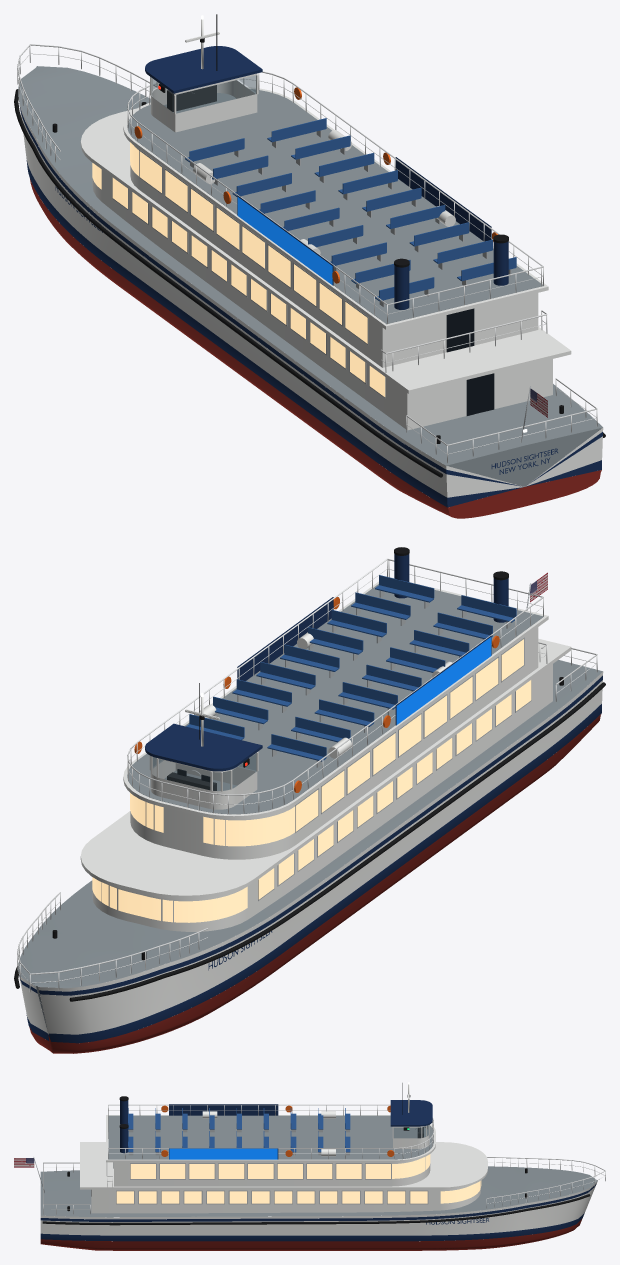
File: sightseeing_boat.glb
The picture shows the model from 3 angles, top to bottom: view 1: azimuth 30°, elevation 25°; view 2: azimuth 150°, elevation 25°; view 3: azimuth 270°, elevation 25°; orthographic projection. The views are drawn at different scales.
Visible parts, largest first — view 1: BOAT_body; view 2: BOAT_body; view 3: BOAT_body.
Part boxes in pixels (bbox=[...]): BOAT_body: bbox=[14, 14, 605, 518]; BOAT_body: bbox=[14, 547, 605, 1053]; BOAT_body: bbox=[14, 1082, 605, 1250].
Size of the model in its own units: 10.48 by 15.12 by 52.4.
20 materials, 2 textured.
